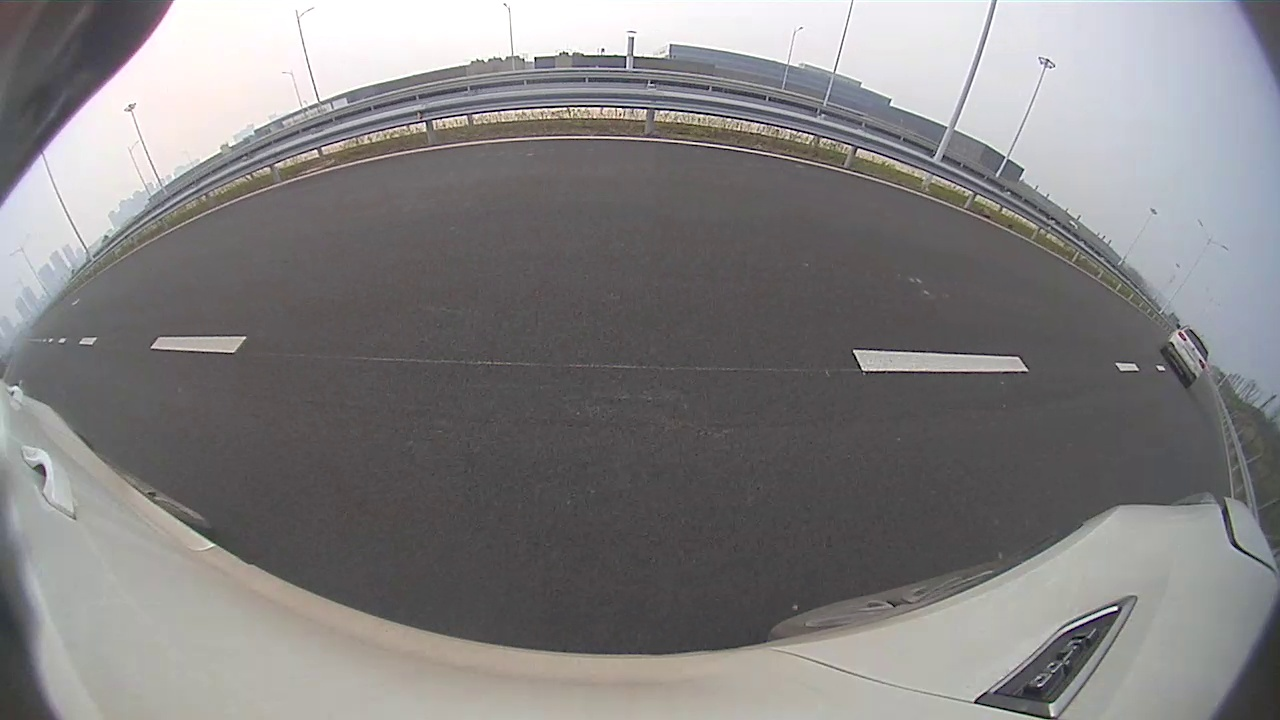car: (626, 155, 665, 188)
